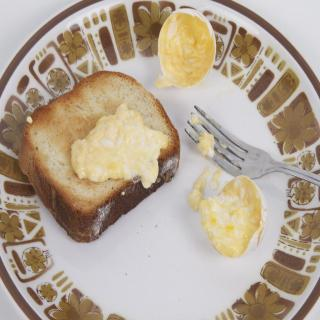Bread: (24, 71, 174, 239)
